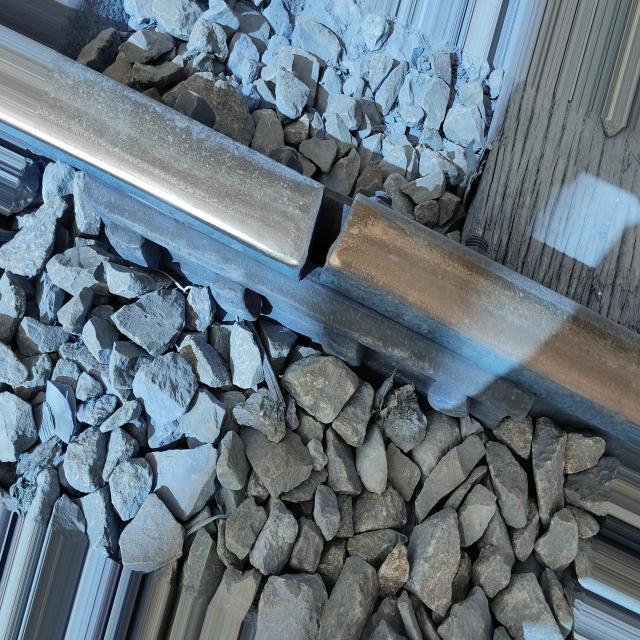Good Joint: (79, 171, 535, 429)
